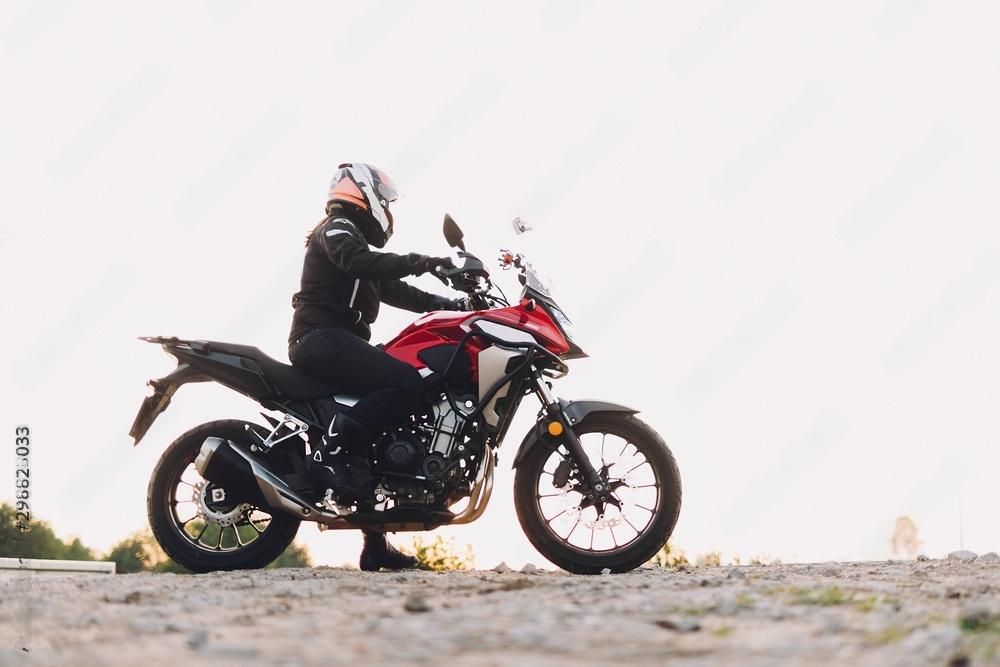helmet: (324, 161, 400, 250)
